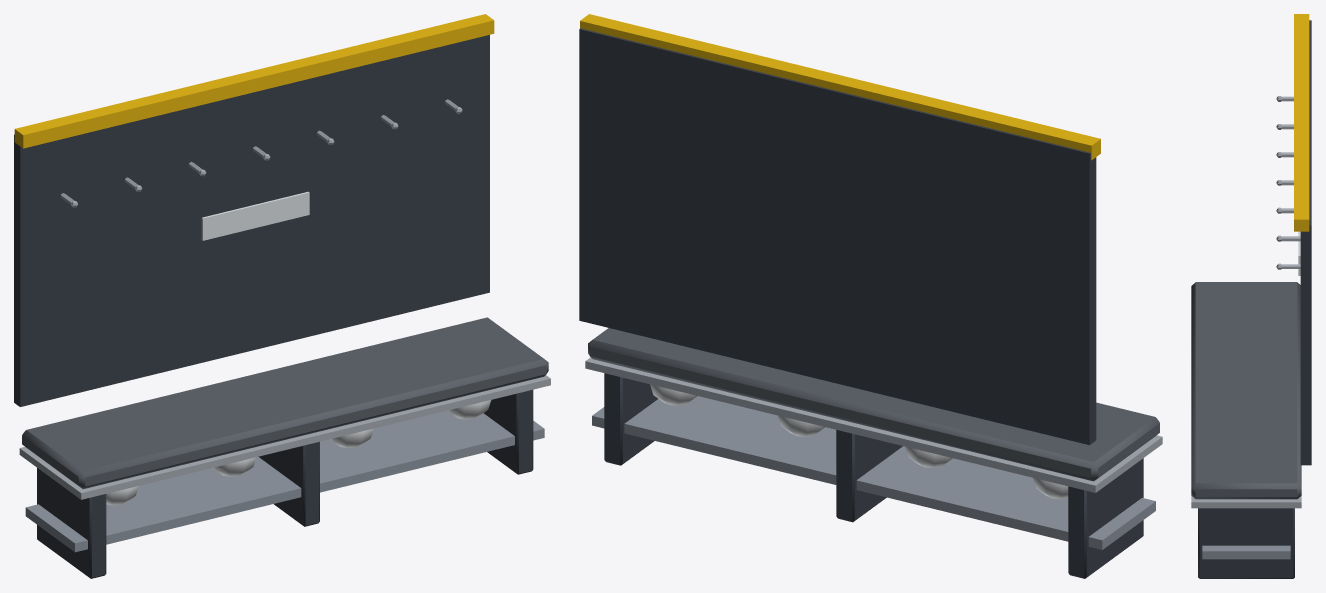
Rendered from suitrack_suit_up_bench.glb.
The picture shows the model from 3 angles, left to right: view 1: azimuth 30°, elevation 25°; view 2: azimuth 150°, elevation 25°; view 3: azimuth 270°, elevation 25°; orthographic projection. The views are drawn at different scales.
Visible parts, largest first — view 1: suitrack_suit_up_bench; view 2: suitrack_suit_up_bench; view 3: suitrack_suit_up_bench.
Boxes of the visible parts, left/top/right/bottom form: suitrack_suit_up_bench: left=14, top=14, right=550, bottom=578; suitrack_suit_up_bench: left=579, top=14, right=1162, bottom=578; suitrack_suit_up_bench: left=1191, top=14, right=1311, bottom=578.
Size of the model in its own units: 2.21 by 1.83 by 0.545.
